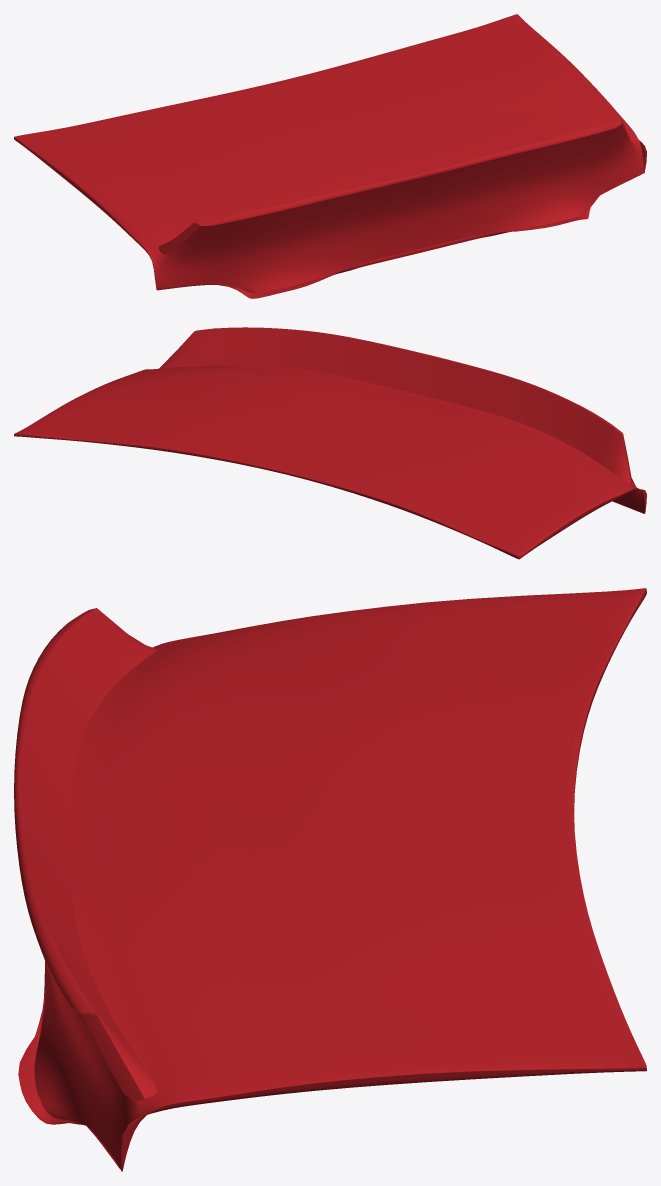
File: ducktail.glb
3 views of the same model, one above another, from view 1: azimuth 30°, elevation 25°; view 2: azimuth 150°, elevation 25°; view 3: azimuth 270°, elevation 25° (orthographic). The views are drawn at different scales.
Parts seen in each view (by area): view 1: Miata_Aero_SpoilerDuck; view 2: Miata_Aero_SpoilerDuck; view 3: Miata_Aero_SpoilerDuck.
Boxes of the visible parts, box(x1,y1,x2,y2) form: Miata_Aero_SpoilerDuck: box(14, 14, 646, 298); Miata_Aero_SpoilerDuck: box(14, 327, 646, 559); Miata_Aero_SpoilerDuck: box(14, 588, 646, 1171).
Bounding box in the file's own units: 44.53 × 7.81 × 24.9.
